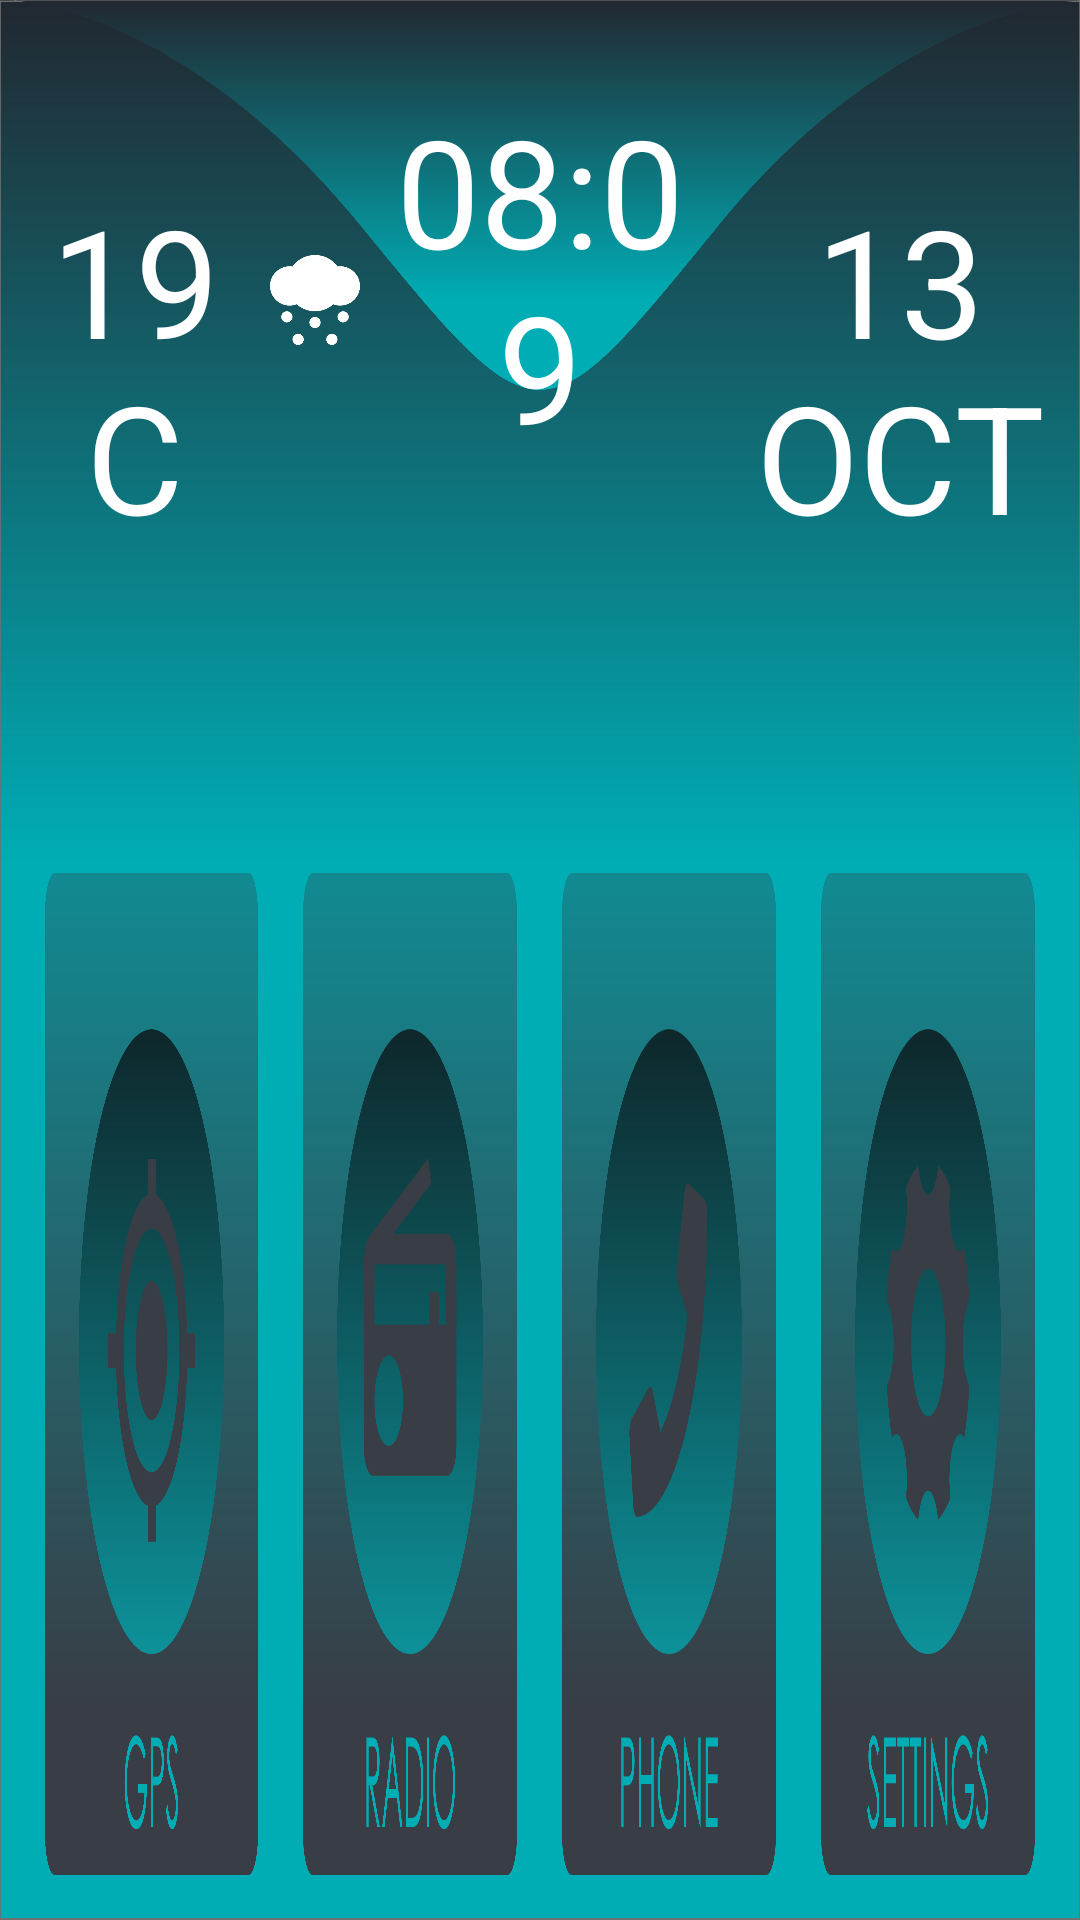

Screen size 1080px×1920px. Icon name, then its box in pixels as (x1, y1, x2, y2):
weathercloud: (270, 255, 360, 345)
